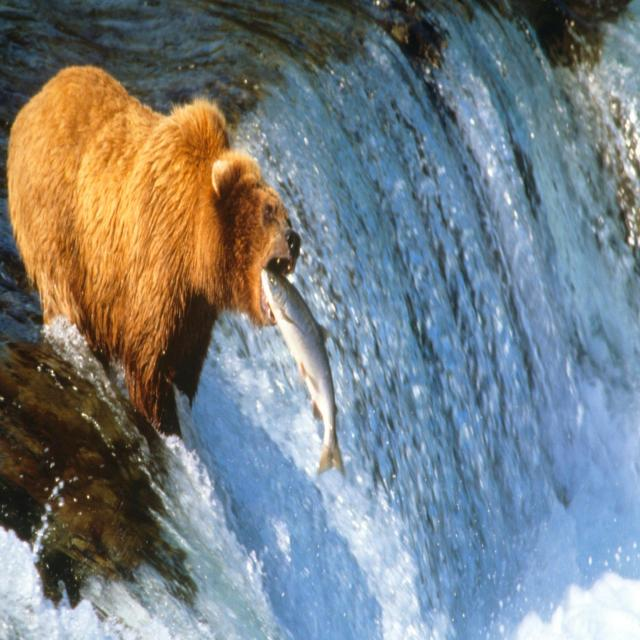Bear: (6, 66, 301, 439)
